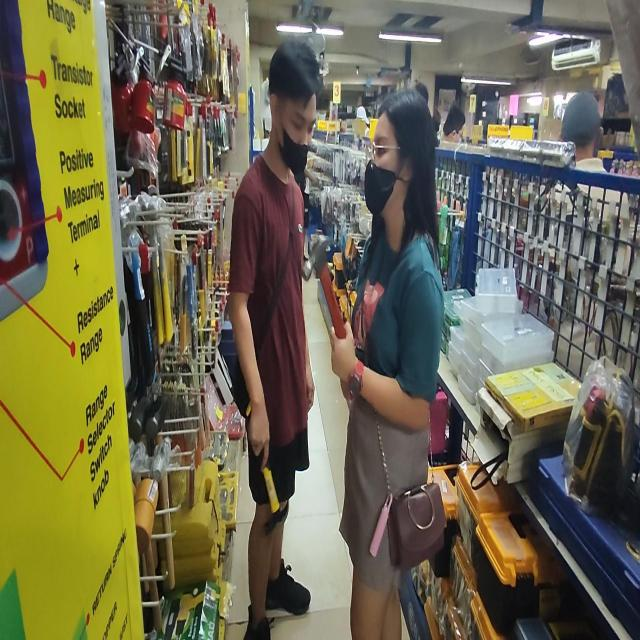hammer: (246, 400, 288, 536), (302, 236, 346, 337)
